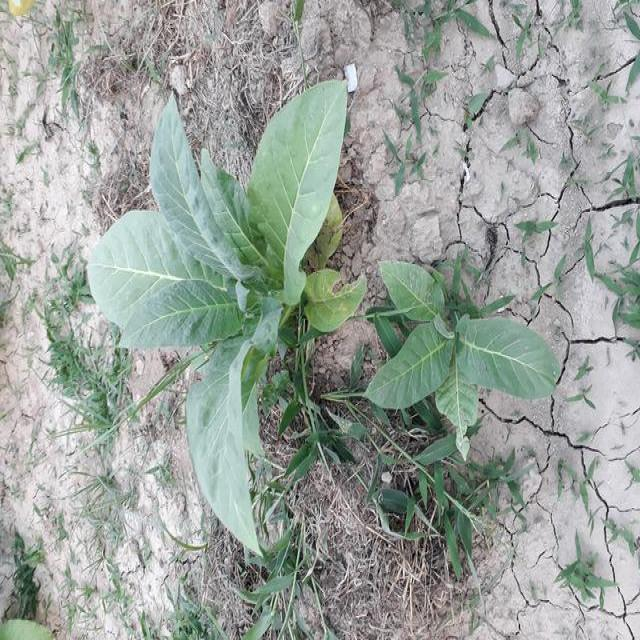crop: (84, 74, 358, 572)
